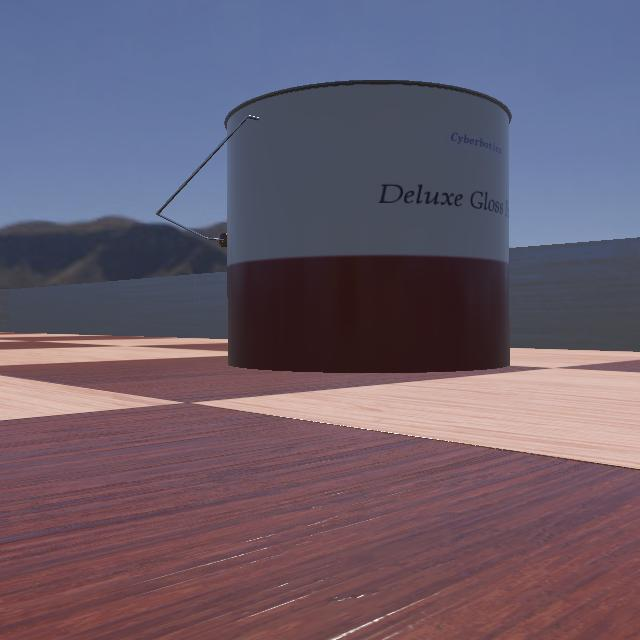paint-bucket: (115, 78, 552, 376)
